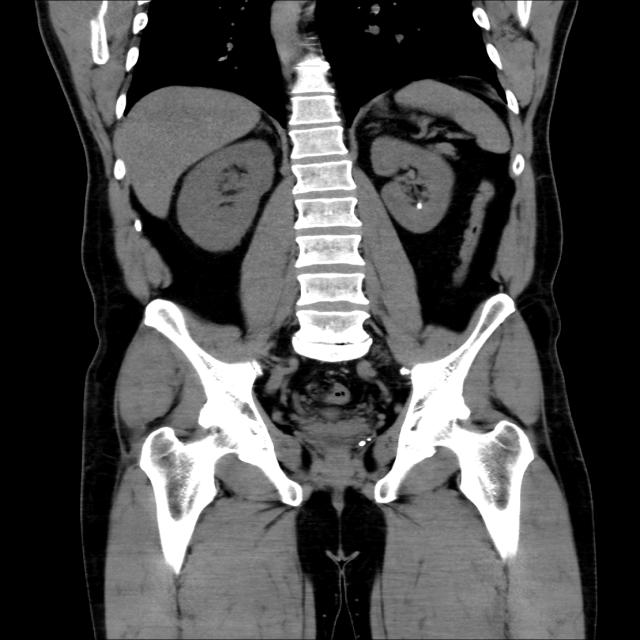kidneystone: (415, 202, 423, 209)
